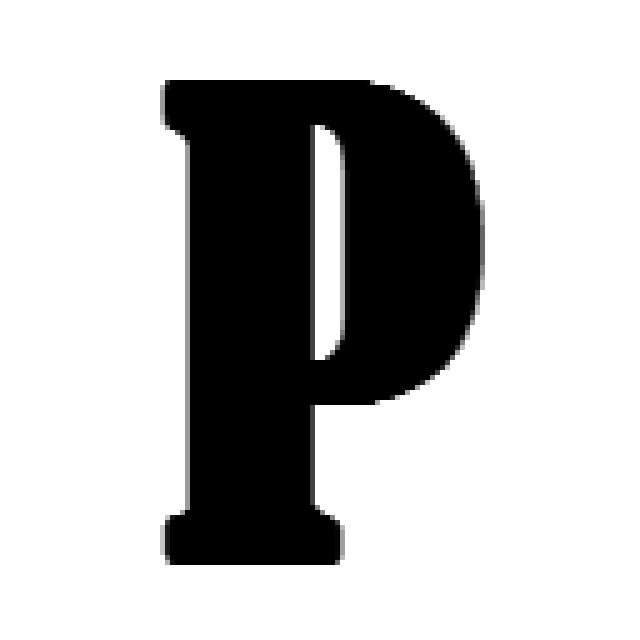P: (160, 80, 490, 570)
